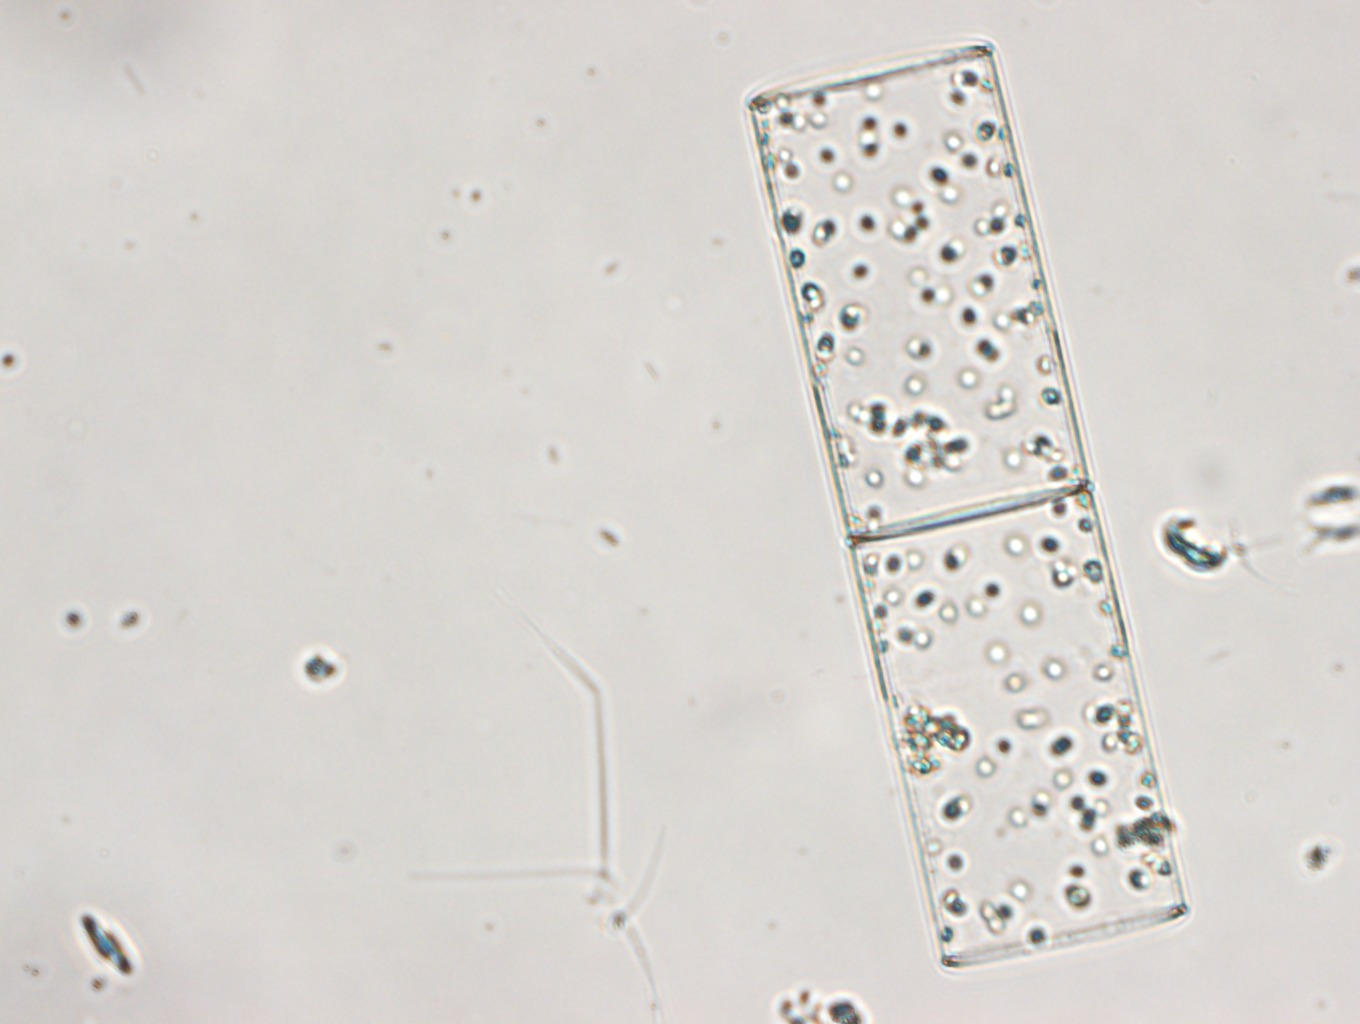guinardia flaccida: (747, 35, 1186, 967)
